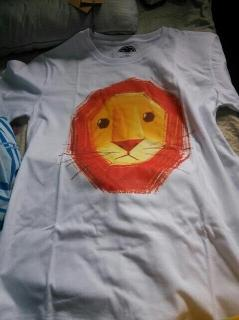short sleeve top: (0, 25, 239, 319)
